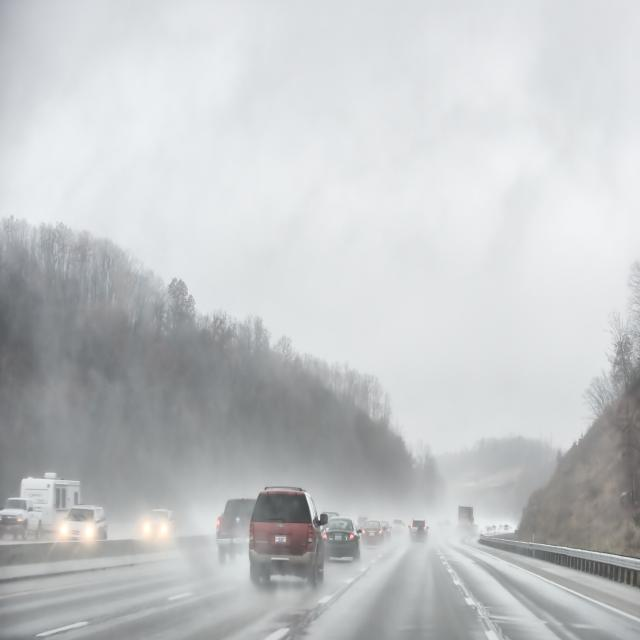bus: (458, 505, 474, 533)
car: (247, 487, 326, 588), (214, 499, 256, 556), (54, 505, 109, 542), (1, 495, 42, 539), (322, 516, 361, 562), (141, 507, 175, 544), (408, 518, 428, 546), (359, 519, 385, 540), (391, 518, 406, 537), (380, 520, 392, 542)
